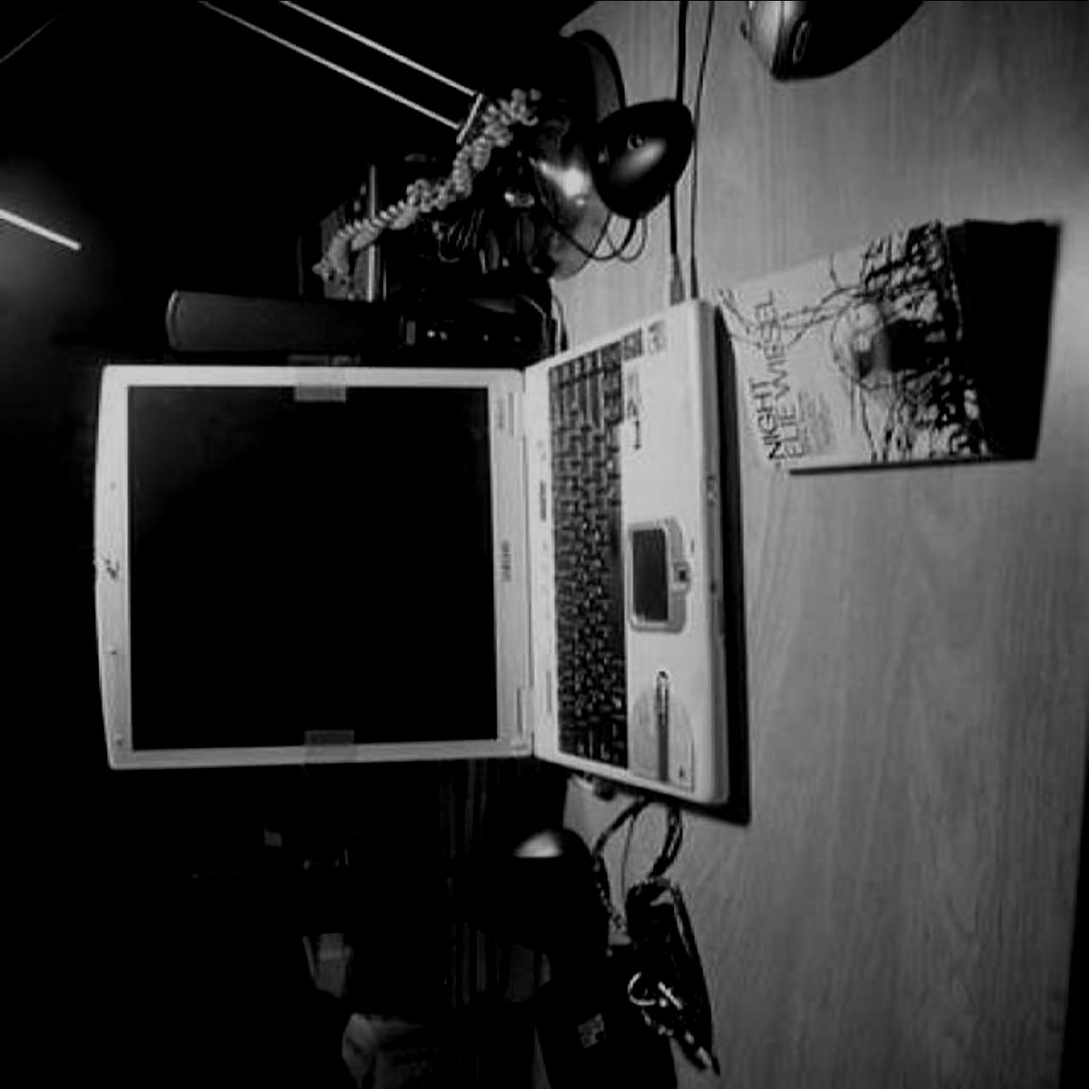laptop: (103, 302, 721, 780)
